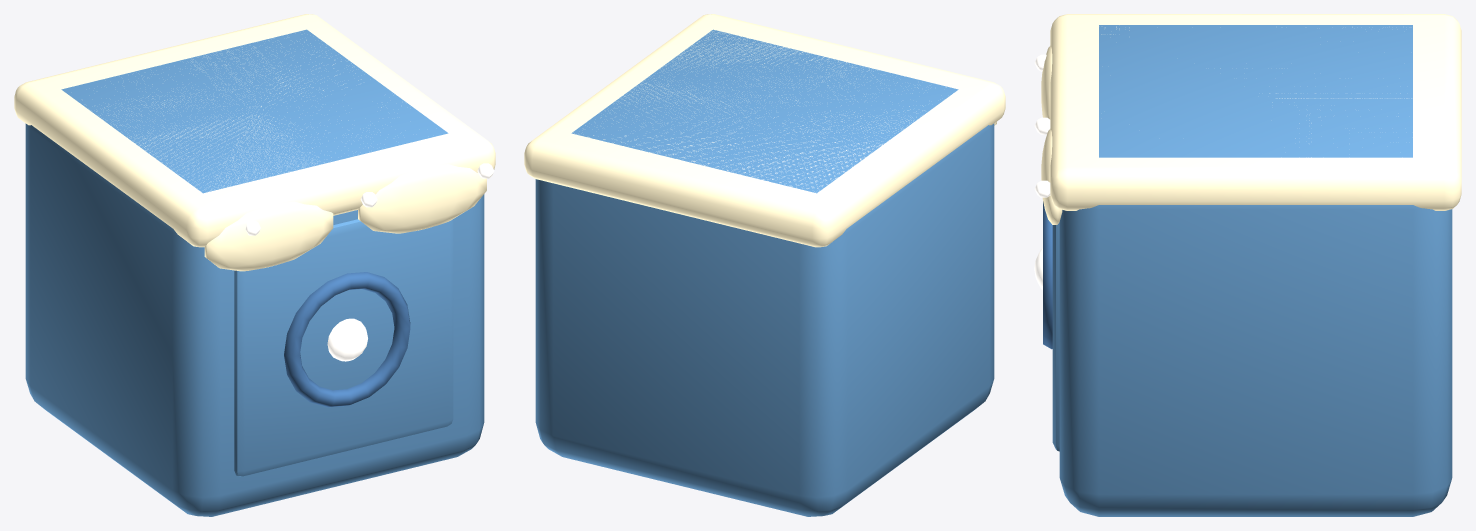
Rendered from tile_top.glb.
3 views of the same model, side by side, from view 1: azimuth 30°, elevation 25°; view 2: azimuth 150°, elevation 25°; view 3: azimuth 270°, elevation 25° (orthographic). The views are drawn at different scales.
Visible parts, largest first — view 1: tile_top; view 2: tile_top; view 3: tile_top.
Boxes of the visible parts, x1,y1,x2,y2 form: tile_top: (14,14,495,516); tile_top: (524,14,1005,516); tile_top: (1034,14,1461,516).
Bounding box in the file's own units: 0.5 × 0.5 × 0.5444.
